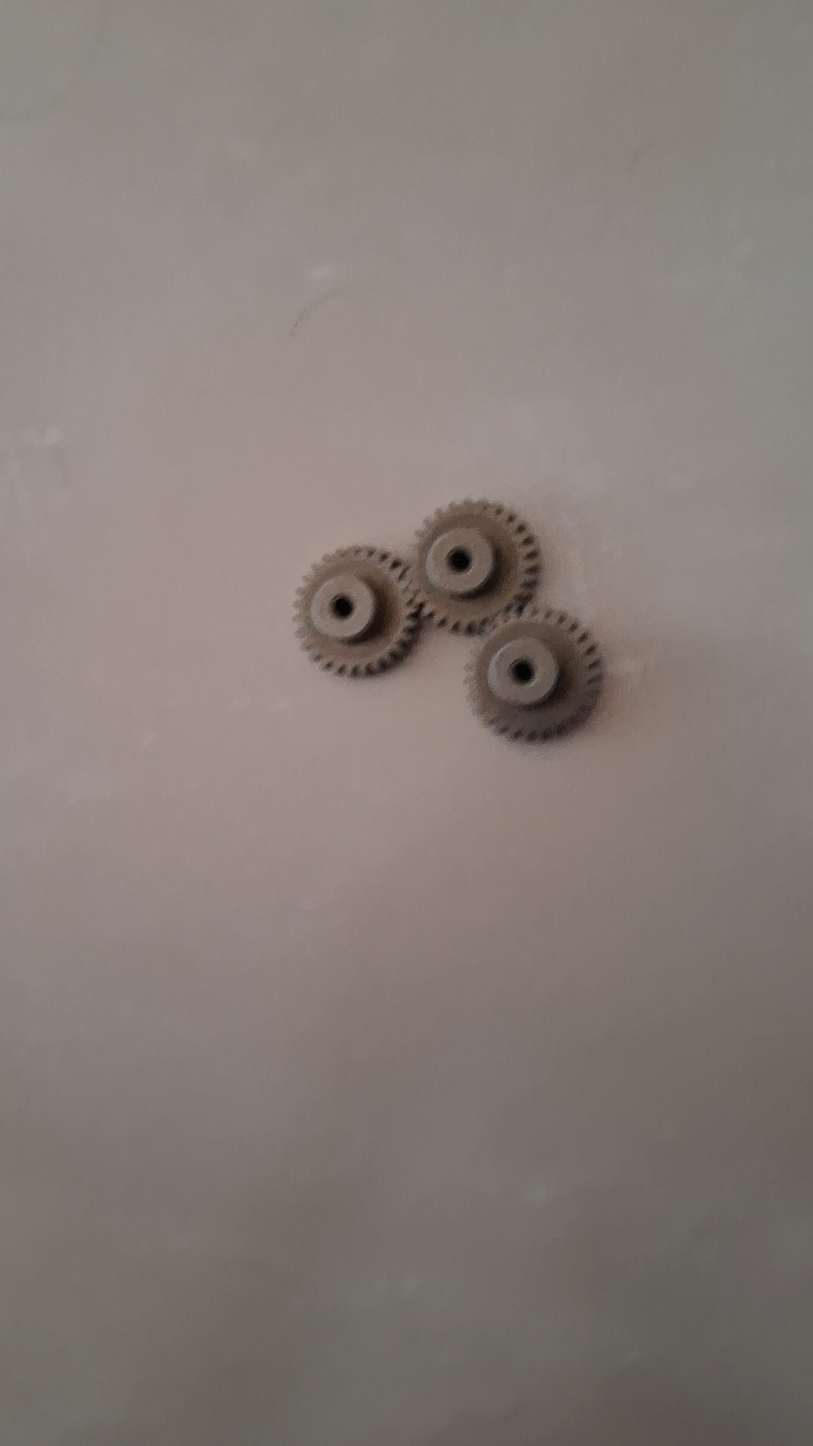spur gear: (466, 606, 602, 741), (414, 500, 540, 633), (294, 546, 419, 676)
